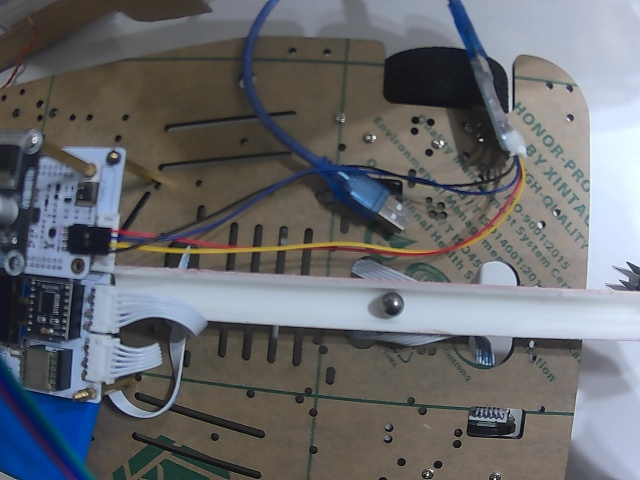steelball: (380, 292, 404, 316)
